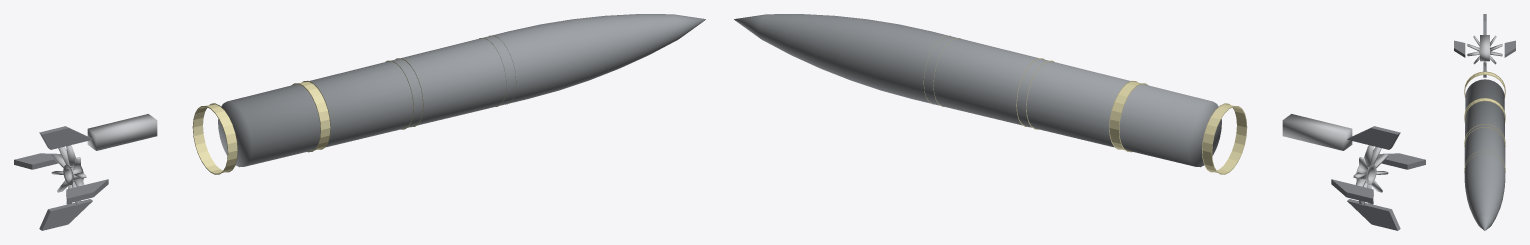
The model's file is US_TORP_Mk48_Mod6_LOD1.fbx.
3 renders of one model, left to right at view 1: azimuth 30°, elevation 25°; view 2: azimuth 150°, elevation 25°; view 3: azimuth 270°, elevation 25°, orthographic. The views are drawn at different scales.
Visible parts, largest first — view 1: WPN_US_TORP_Mk48_Mod6_LOD1_Body, WPN_US_TORP_Mk48_Mod6_LOD1_Marking, WPN_US_TORP_Mk48_Mod6_LOD1_Fins, WPN_US_TORP_Mk48_Mod6_LOD1_Detail, WPN_US_TORP_Mk48_Mod6_LOD1_Propulsor; view 2: WPN_US_TORP_Mk48_Mod6_LOD1_Body, WPN_US_TORP_Mk48_Mod6_LOD1_Marking, WPN_US_TORP_Mk48_Mod6_LOD1_Fins, WPN_US_TORP_Mk48_Mod6_LOD1_Detail, WPN_US_TORP_Mk48_Mod6_LOD1_Propulsor; view 3: WPN_US_TORP_Mk48_Mod6_LOD1_Body, WPN_US_TORP_Mk48_Mod6_LOD1_Marking, WPN_US_TORP_Mk48_Mod6_LOD1_Fins, WPN_US_TORP_Mk48_Mod6_LOD1_Propulsor, WPN_US_TORP_Mk48_Mod6_LOD1_Detail.
Part boxes in pixels (box(x1,y1,x2,y2)): WPN_US_TORP_Mk48_Mod6_LOD1_Body: box(218, 14, 705, 167); WPN_US_TORP_Mk48_Mod6_LOD1_Marking: box(192, 35, 516, 174); WPN_US_TORP_Mk48_Mod6_LOD1_Fins: box(14, 126, 108, 230); WPN_US_TORP_Mk48_Mod6_LOD1_Detail: box(87, 114, 157, 150); WPN_US_TORP_Mk48_Mod6_LOD1_Propulsor: box(51, 145, 86, 205); WPN_US_TORP_Mk48_Mod6_LOD1_Body: box(734, 14, 1221, 167); WPN_US_TORP_Mk48_Mod6_LOD1_Marking: box(923, 35, 1247, 174); WPN_US_TORP_Mk48_Mod6_LOD1_Fins: box(1331, 126, 1425, 230); WPN_US_TORP_Mk48_Mod6_LOD1_Detail: box(1282, 114, 1352, 150); WPN_US_TORP_Mk48_Mod6_LOD1_Propulsor: box(1353, 145, 1388, 205); WPN_US_TORP_Mk48_Mod6_LOD1_Body: box(1464, 79, 1505, 230); WPN_US_TORP_Mk48_Mod6_LOD1_Marking: box(1464, 71, 1505, 172); WPN_US_TORP_Mk48_Mod6_LOD1_Fins: box(1454, 14, 1515, 77); WPN_US_TORP_Mk48_Mod6_LOD1_Propulsor: box(1467, 35, 1502, 67); WPN_US_TORP_Mk48_Mod6_LOD1_Detail: box(1480, 35, 1489, 61).
Size of the model in its own units: 5.81 by 0.8049 by 0.8049.
